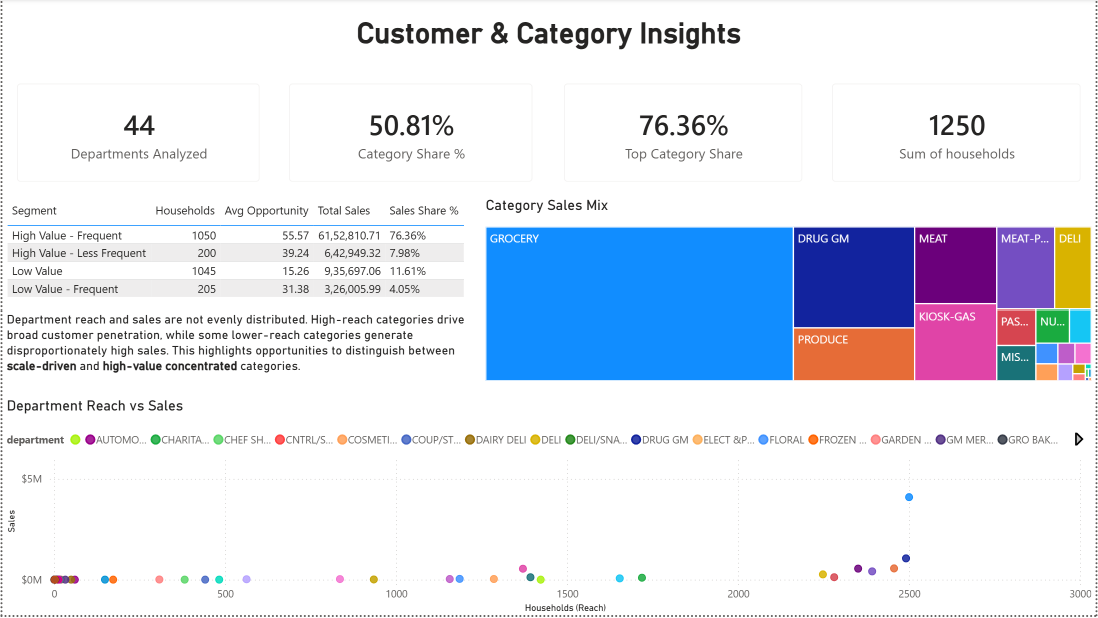

What the dashboard file says about the page in this screenshot:
{"tool":"powerbi","page":{"name":"Customer & Category Insights","canvas":[1280,720],"ordinal":1},"visuals":[{"type":"textbox","box":[0,0,1279.6,82],"z":0},{"type":"cardVisual","fields":{"Data":["Count(category_performance.department)"]},"box":[0,82,318.4,149.9],"z":1000},{"type":"cardVisual","fields":{"Data":["category_performance.Category Share %"]},"box":[318.4,82,319.6,149.9],"z":2000},{"type":"cardVisual","fields":{"Data":["household_segments.Formatted Sales Share"]},"box":[640.4,82,313.8,149.9],"z":3000},{"type":"cardVisual","fields":{"Data":["Sum(household_segments.households)"]},"box":[954.1,82,325.5,149.9],"z":4000},{"type":"tableEx","fields":{"Values":["household_segments.value_segment","household_segments.households","household_segments.avg_opportunity_score","household_segments.total_sales","household_segments.Sales Share %"]},"box":[0,231.8,560.8,127.6],"z":5000},{"type":"treemap","title":"Category Sales Mix","fields":{"Group":["category_performance.department"],"Values":["Sum(category_performance.sales)"]},"box":[560.8,231.8,718.8,218.9],"z":6000},{"type":"scatterChart","title":"Department Reach vs Sales","fields":{"X":["category_performance.households"],"Y":["category_performance.sales"],"Series":["category_performance.department"]},"box":[0,446,1279.6,276.3],"z":7000},{"type":"textbox","box":[0,359.4,560.8,86.6],"z":8000}]}

Visuals, with their boxes in screenshot pixels (x1, y1, x2, y2), scaled from the page's 1280x720 canvas onto the 1098x618 screenshot:
textbox: crop(0, 0, 1097, 70)
cardVisual - Count(category_performance.department): crop(0, 70, 273, 199)
cardVisual - category_performance.Category Share %: crop(273, 70, 547, 199)
cardVisual - household_segments.Formatted Sales Share: crop(549, 70, 819, 199)
cardVisual - Sum(household_segments.households): crop(818, 70, 1097, 199)
tableEx - household_segments.value_segment x household_segments.households: crop(0, 199, 481, 308)
"Category Sales Mix" treemap: crop(481, 199, 1097, 387)
"Department Reach vs Sales" scatterChart: crop(0, 383, 1097, 617)
textbox: crop(0, 308, 481, 383)
